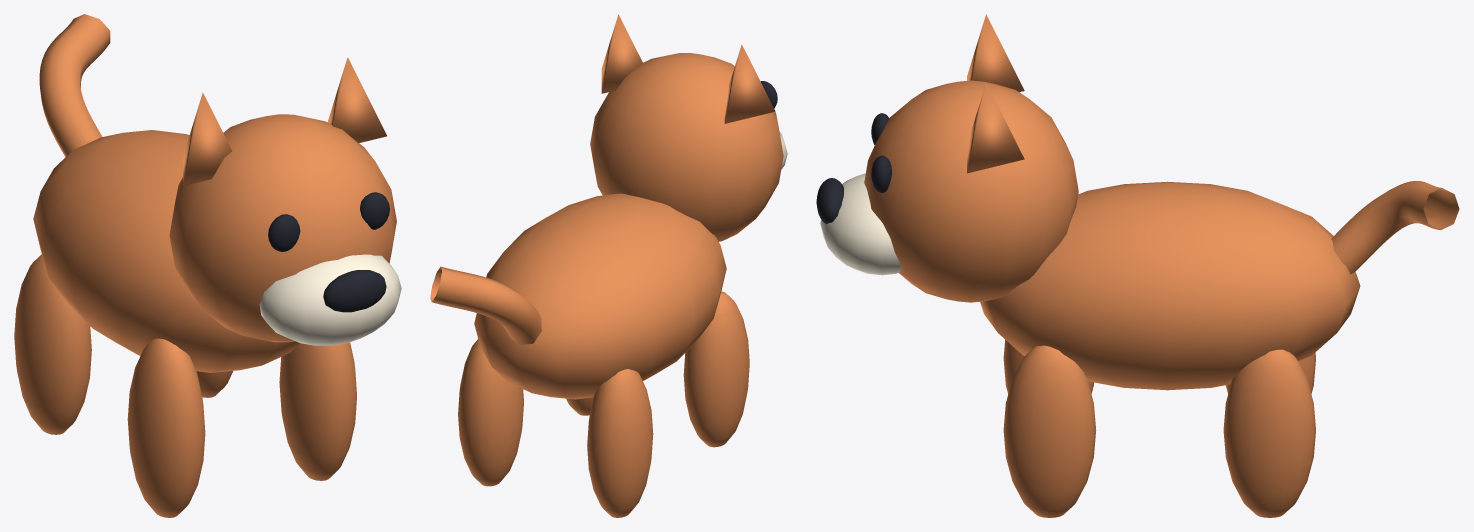
The model's file is word-cat.glb.
3 renders of one model, left to right at view 1: azimuth 30°, elevation 25°; view 2: azimuth 150°, elevation 25°; view 3: azimuth 270°, elevation 25°, orthographic. The views are drawn at different scales.
Parts seen in each view (by area): view 1: animal head, round animal body, little paw, little paw.001, little paw.002, muzzle, tail, pointed ear, pointed ear.001, nose, eye, eye.001 (+1 smaller); view 2: round animal body, animal head, little paw.001, little paw, little paw.003, tail, pointed ear, pointed ear.001; view 3: round animal body, animal head, little paw.002, little paw.003, tail, muzzle, pointed ear.001, pointed ear, nose.
Part boxes in pixels (x1,y1,x2,y2): animal head: (169, 114, 396, 342); round animal body: (33, 130, 299, 372); little paw: (127, 338, 205, 517); little paw.001: (14, 254, 91, 434); little paw.002: (279, 342, 356, 480); muzzle: (259, 254, 401, 345); tail: (39, 14, 110, 156); pointed ear: (183, 92, 231, 185); pointed ear.001: (327, 57, 386, 142); nose: (323, 270, 386, 312); eye: (268, 214, 300, 251); eye.001: (360, 192, 389, 229); round animal body: (474, 193, 726, 399); animal head: (590, 53, 783, 241); little paw.001: (587, 369, 653, 517); little paw: (683, 291, 749, 447); little paw.003: (458, 339, 523, 486); tail: (430, 266, 541, 344); pointed ear: (724, 44, 775, 123); pointed ear.001: (601, 14, 643, 93); round animal body: (980, 181, 1360, 390); animal head: (864, 80, 1078, 302); little paw.002: (1003, 345, 1096, 517); little paw.003: (1223, 349, 1315, 517); tail: (1331, 181, 1459, 274); muzzle: (820, 173, 900, 275); pointed ear.001: (967, 83, 1024, 173); pointed ear: (967, 14, 1024, 92); nose: (816, 178, 843, 223).
Bounding box in the file's own units: 0.64 × 1.24 × 1.67.
